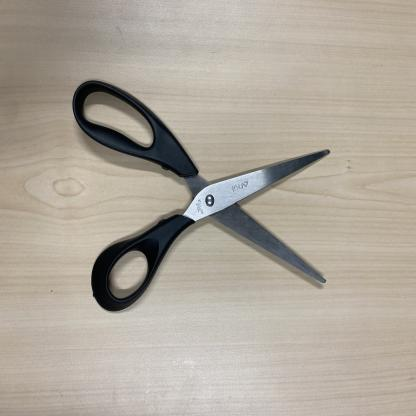scissors: (70, 76, 328, 314)
